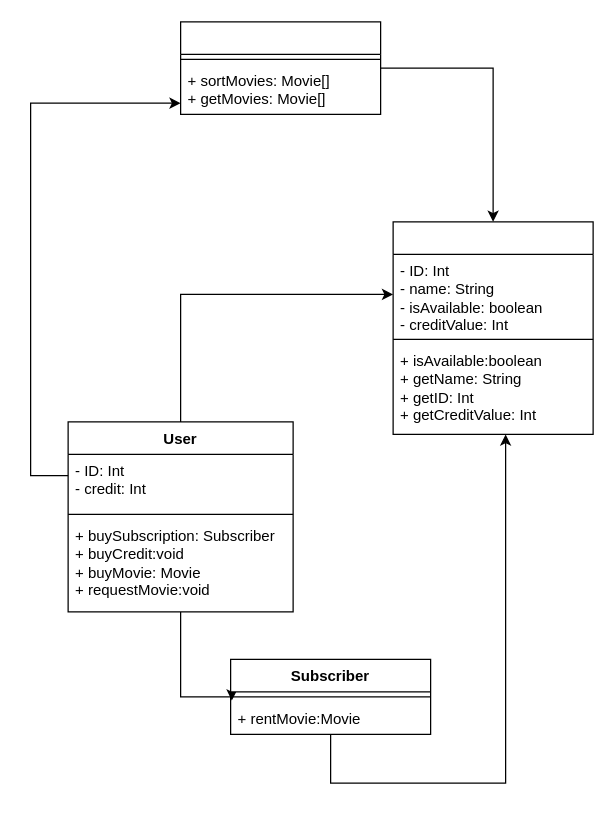
Image size: 615x815. Some labels were removed from this diagram. The shapes that lost their labels are listed below. From the top down, each one's box as (x1, y1, x2, y2) in pixels, then its label:
(179, 21, 381, 114): MainApp
(392, 221, 593, 434): Movie
